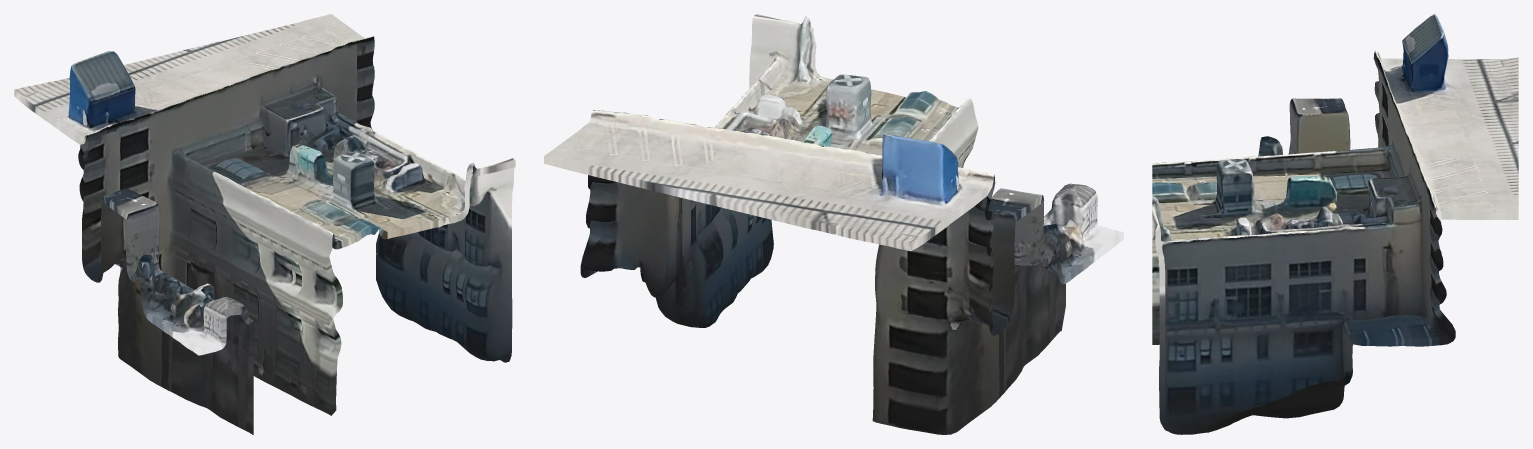
Rendered from z20-167754-405240-h1-yup-uvflip-v3-world.glb.
The picture shows the model from 3 angles, left to right: view 1: azimuth 30°, elevation 25°; view 2: azimuth 150°, elevation 25°; view 3: azimuth 270°, elevation 25°; orthographic projection. The views are drawn at different scales.
Size of the model in its own units: 30.16 by 25.16 by 30.32.
Materials: 1 (1 with a texture image).
